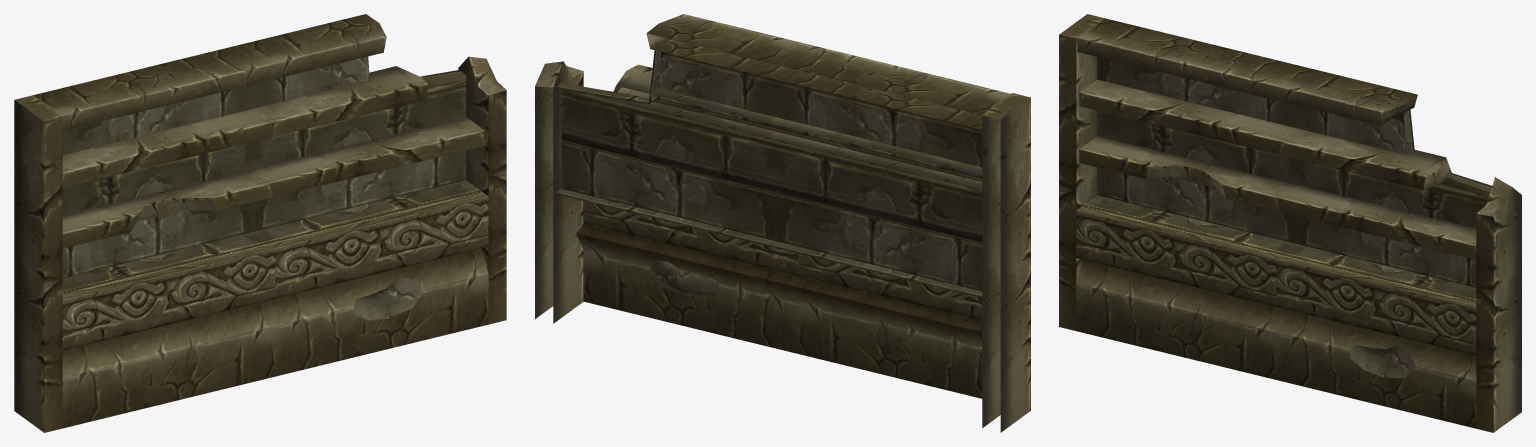
Rendered from F_shujia005.fbx.
3 views of the same model, side by side, from view 1: azimuth 30°, elevation 25°; view 2: azimuth 150°, elevation 25°; view 3: azimuth 330°, elevation 25° (orthographic). The views are drawn at different scales.
Parts seen in each view (by area): view 1: F_shujia005; view 2: F_shujia005; view 3: F_shujia005.
Part boxes in pixels (bbox=[...]): F_shujia005: bbox=[14, 14, 506, 432]; F_shujia005: bbox=[535, 14, 1030, 432]; F_shujia005: bbox=[1059, 14, 1521, 432].
Size of the model in its own units: 355 by 228 by 40.09.
